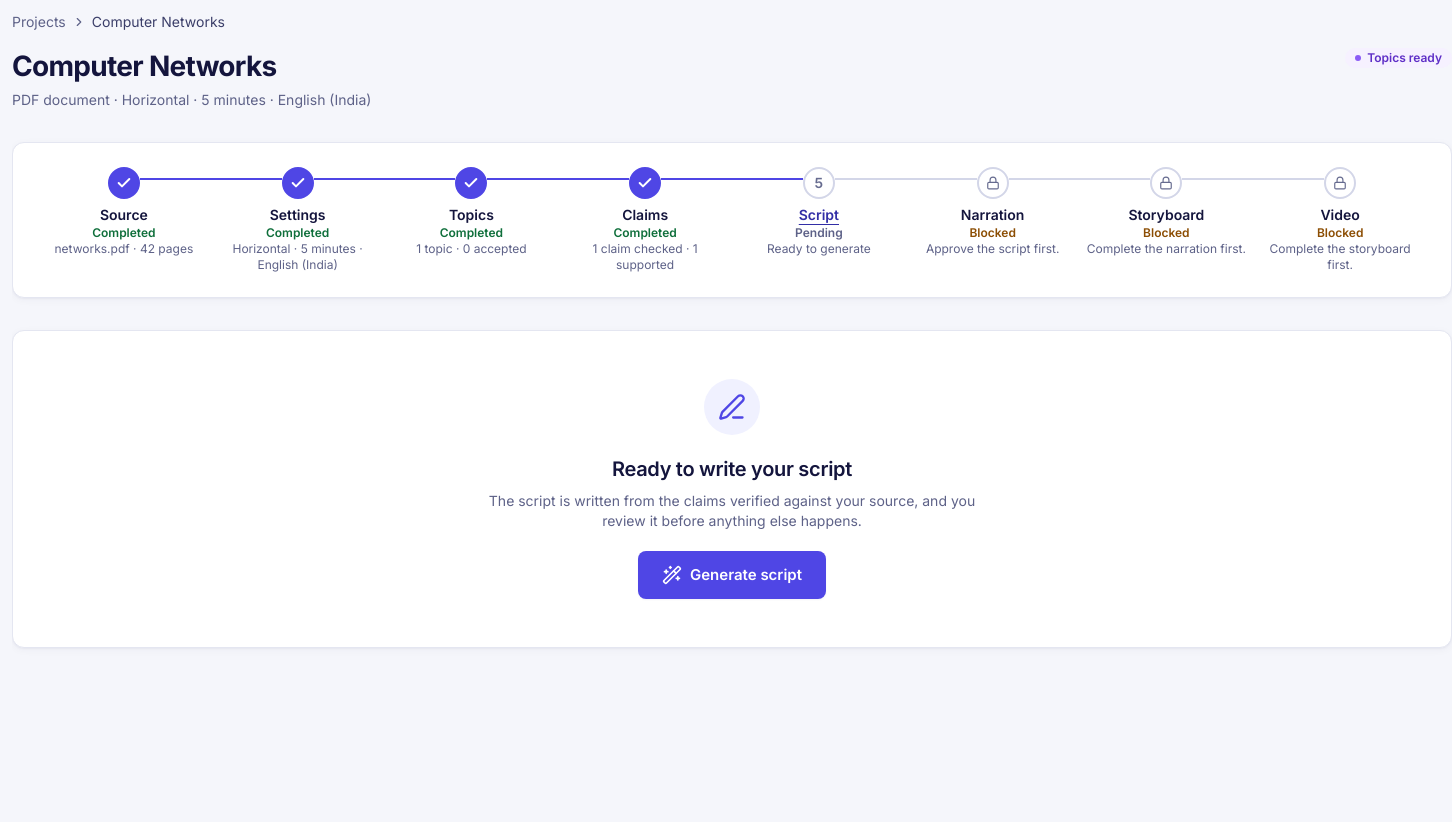
Test case: Script step › treats the API refusing for lack of claims the same way, without a raw error
Click the button "Generate script" at (732, 575), box [638,551,826,599]
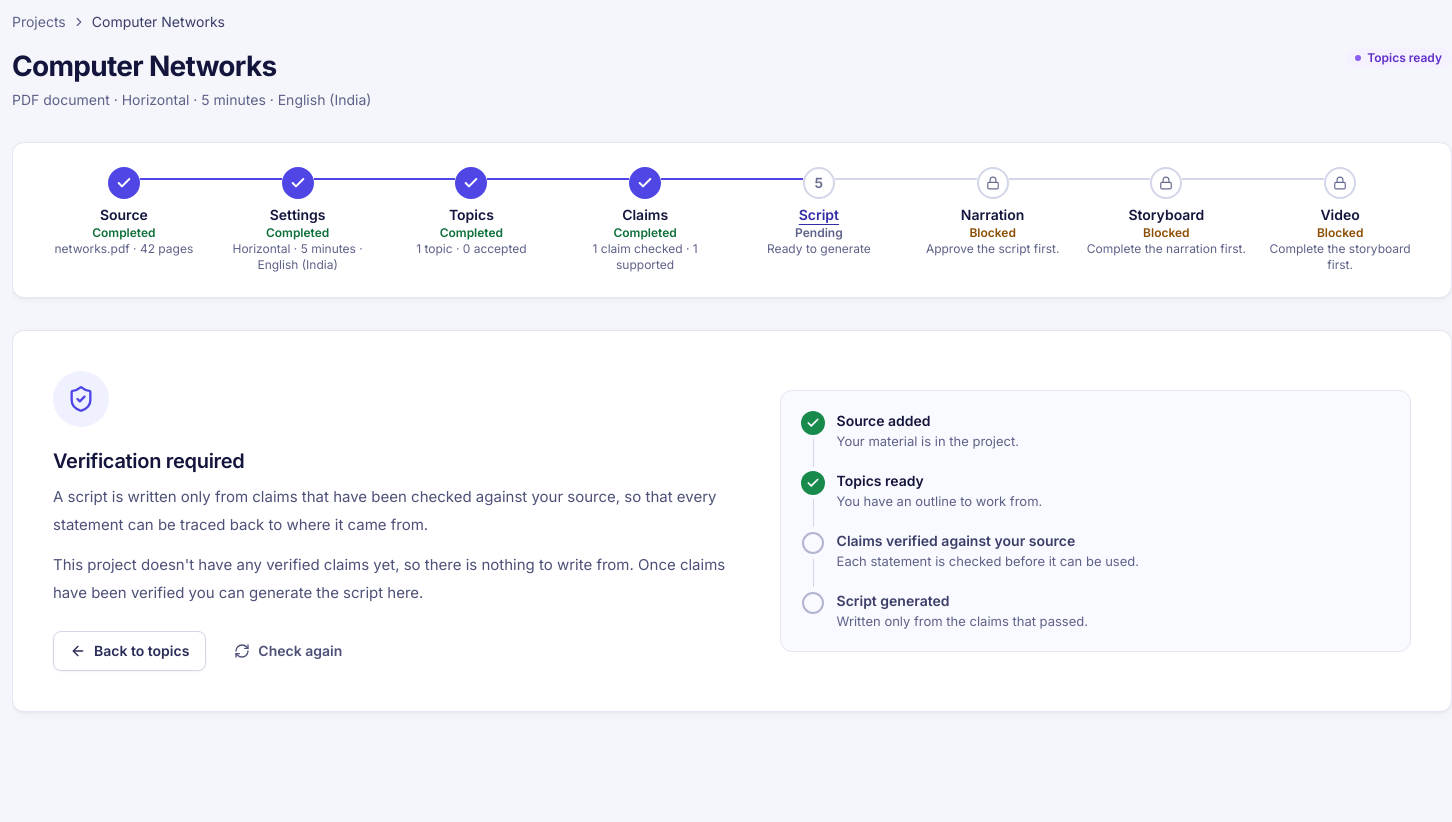
Check: the heading "Verification required" is shown, box [53,449,244,473]
